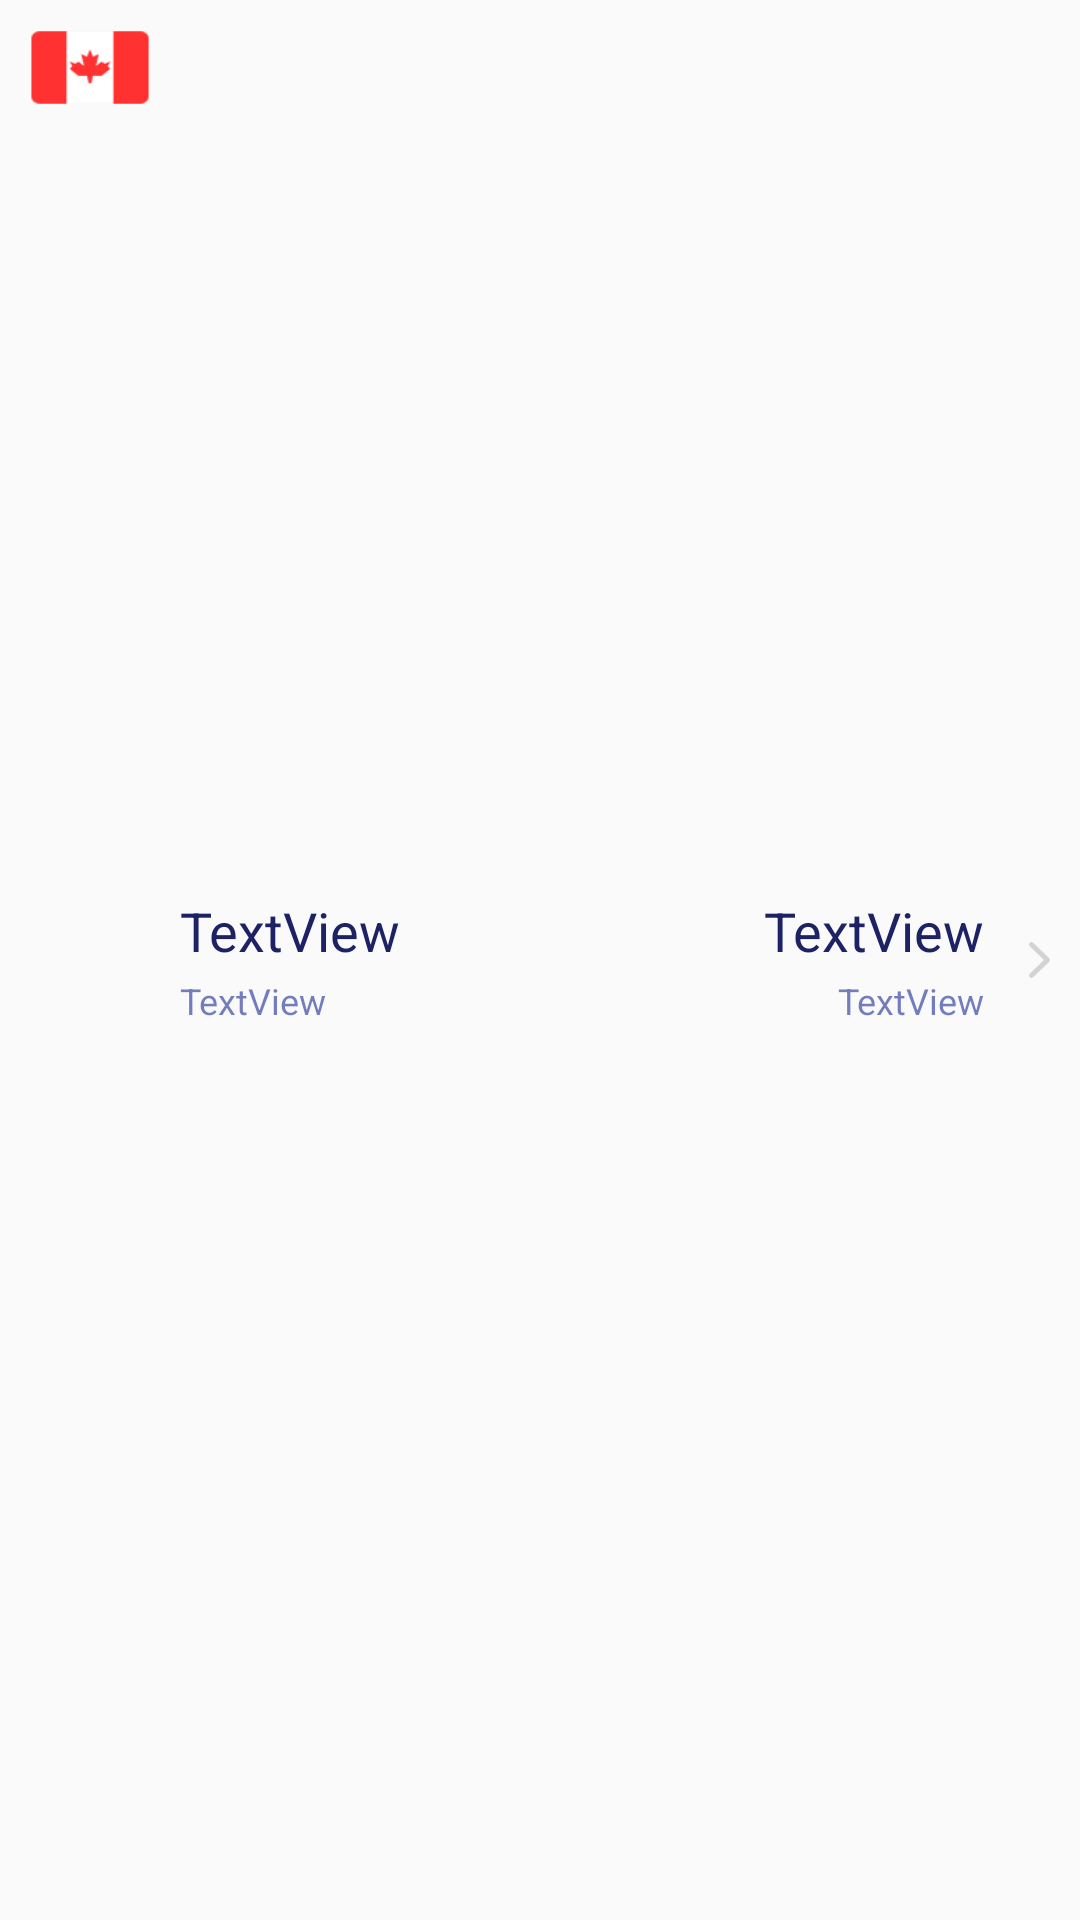

Icons on this 1080x1920 Android screen, each with the point to tap as [x,y]:
flag canada: [90,67]
